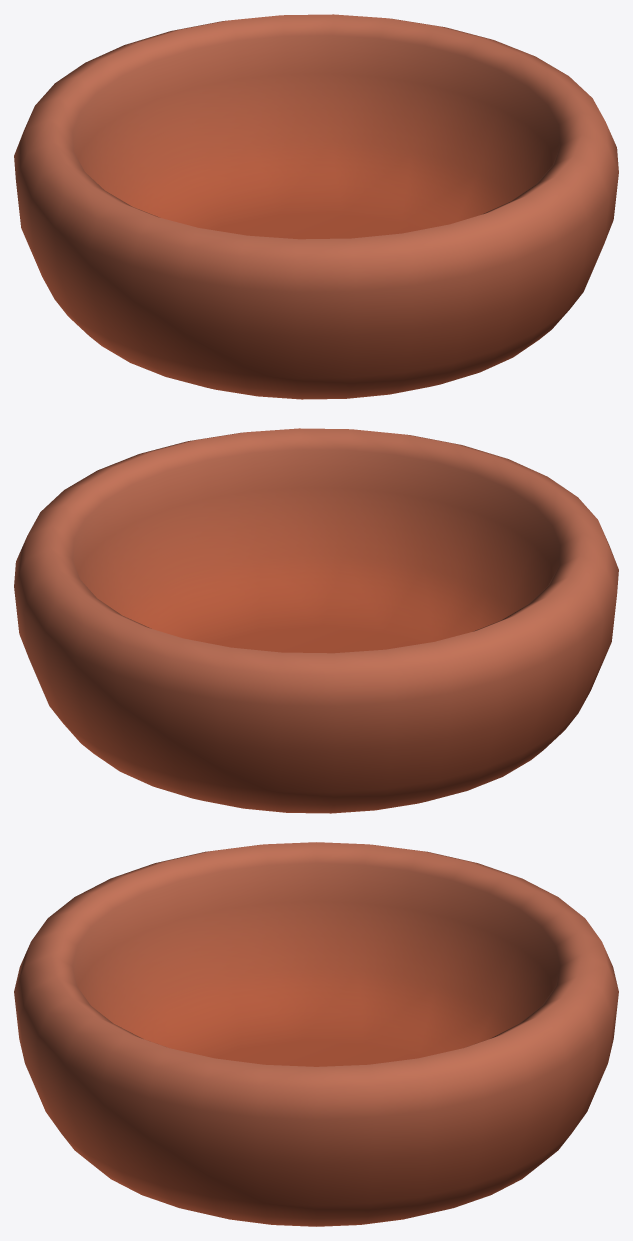
Rendered from Bowl_001.fbx.
The picture shows the model from 3 angles, top to bottom: view 1: azimuth 30°, elevation 25°; view 2: azimuth 150°, elevation 25°; view 3: azimuth 270°, elevation 25°; orthographic projection.
Visible parts, largest first — view 1: Bowl_001; view 2: Bowl_001; view 3: Bowl_001.
Part boxes in pixels (x1,y1,x2,y2): Bowl_001: (14, 14, 618, 399); Bowl_001: (14, 428, 618, 813); Bowl_001: (14, 842, 618, 1226).
Size of the model in its own units: 0.3108 by 0.1019 by 0.3108.
